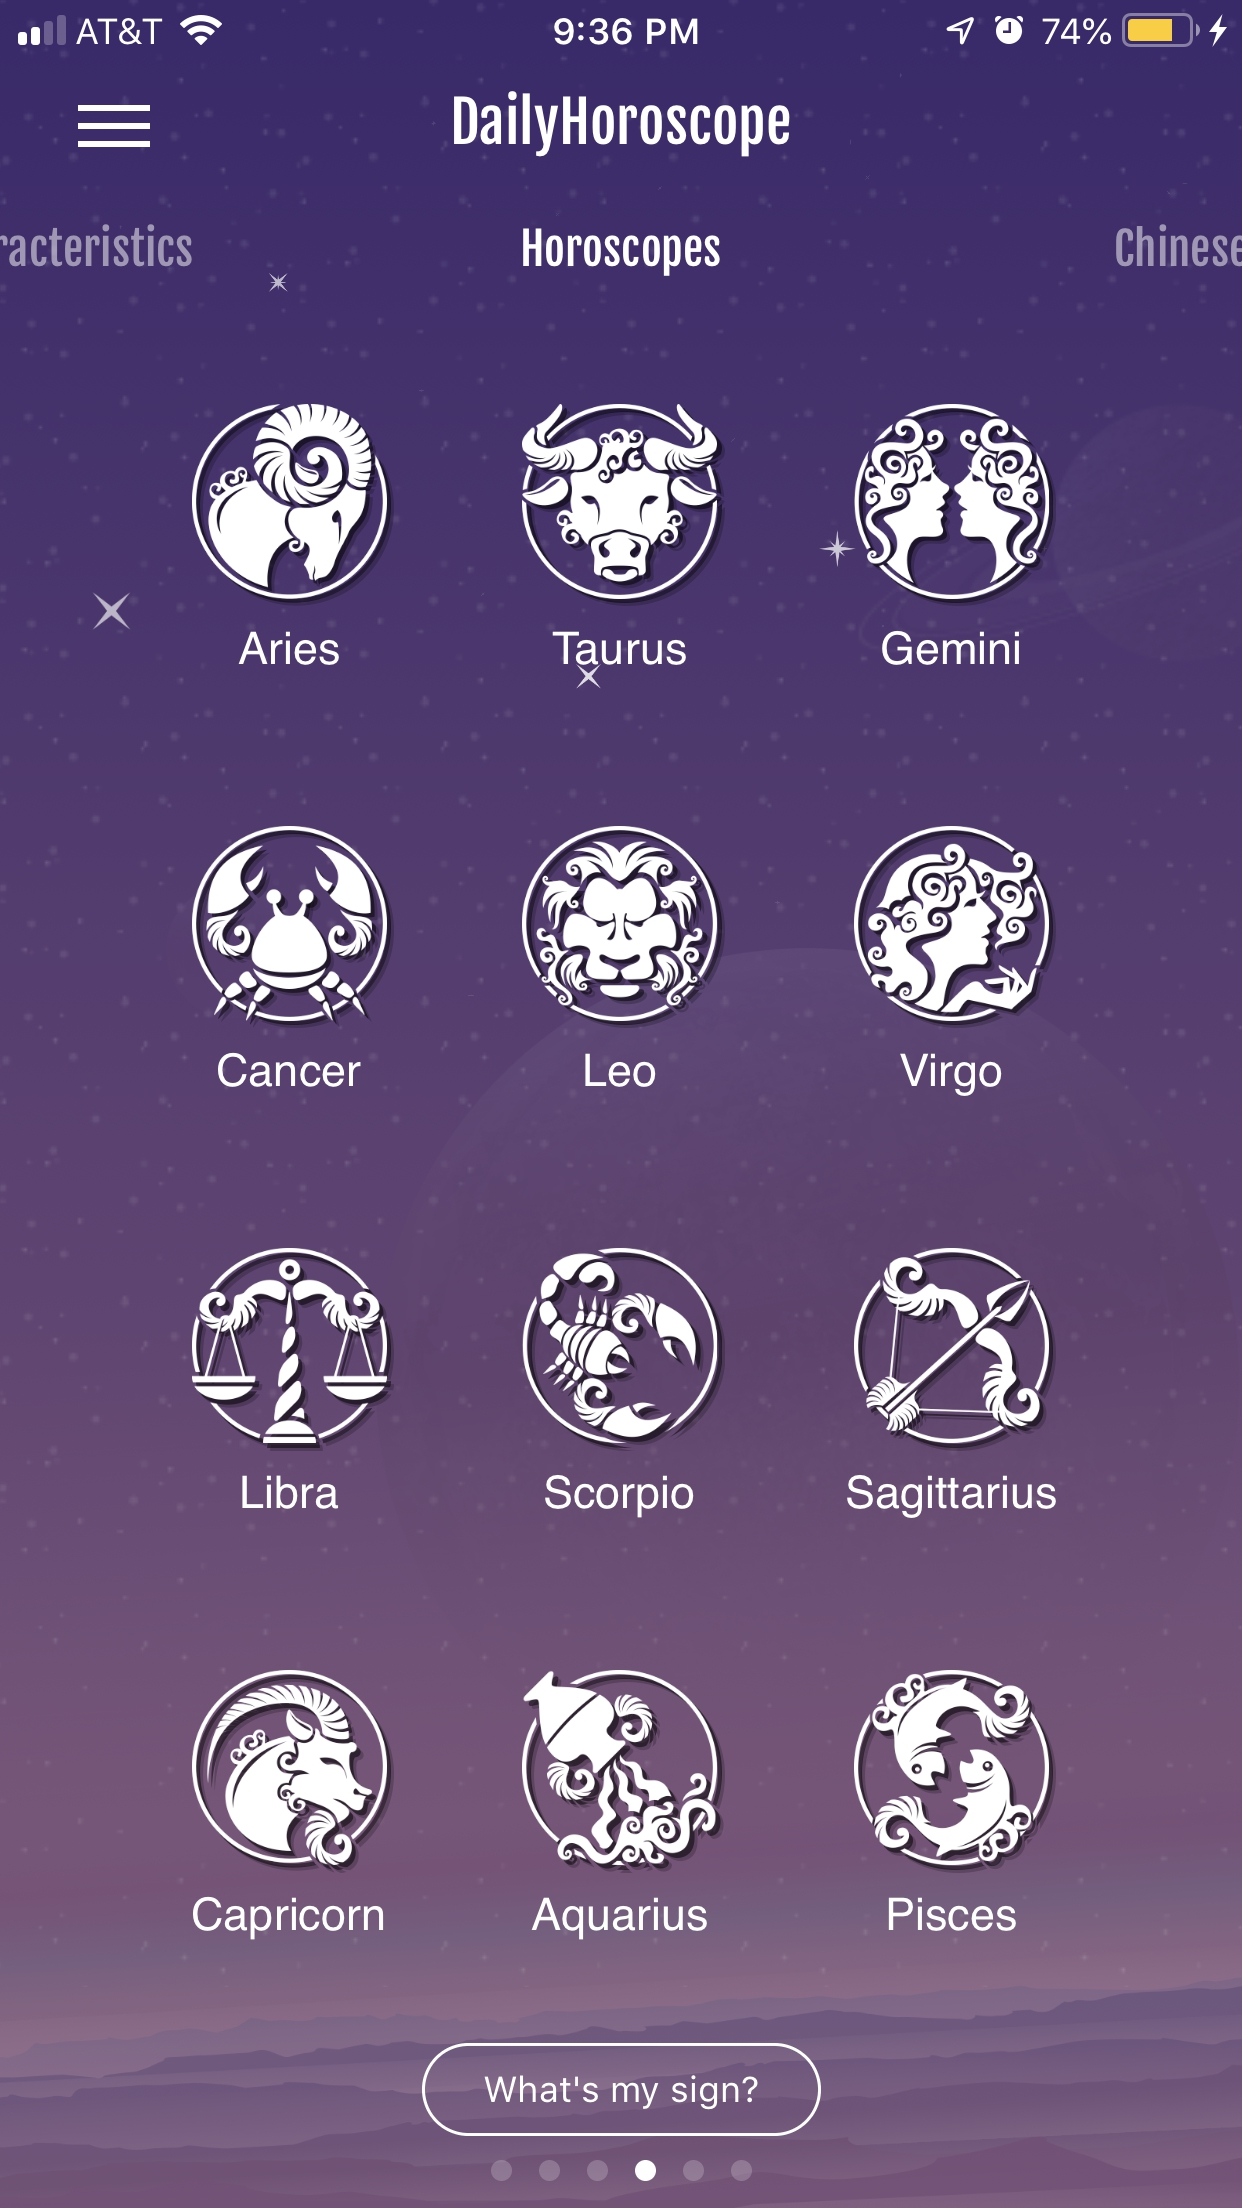BackgroundImage: (2, 2, 1242, 2208)
Icon: (77, 103, 152, 149)
Image: (190, 1670, 390, 1870), (851, 1245, 1051, 1445), (522, 1247, 722, 1447), (190, 1247, 390, 1447), (852, 825, 1052, 1025), (852, 400, 1052, 601), (852, 1670, 1052, 1868), (193, 823, 391, 1024), (522, 822, 720, 1022), (193, 403, 391, 604), (522, 403, 720, 604), (522, 1670, 720, 1868)
PageIndicator: (490, 2159, 754, 2184)
Text: (455, 93, 790, 158), (522, 227, 720, 278), (846, 1474, 1057, 1520), (193, 1896, 385, 1940), (2, 223, 196, 265), (531, 1896, 708, 1940), (546, 1474, 695, 1518), (1115, 224, 1242, 268), (881, 629, 1021, 667), (217, 1052, 361, 1089), (887, 1896, 1018, 1934), (550, 631, 687, 666), (899, 1052, 1002, 1098), (238, 631, 340, 667), (240, 1474, 340, 1510), (584, 1052, 658, 1089)
TextButton: (422, 2043, 823, 2138)
UpperTaskBar: (2, 2, 1242, 49)
